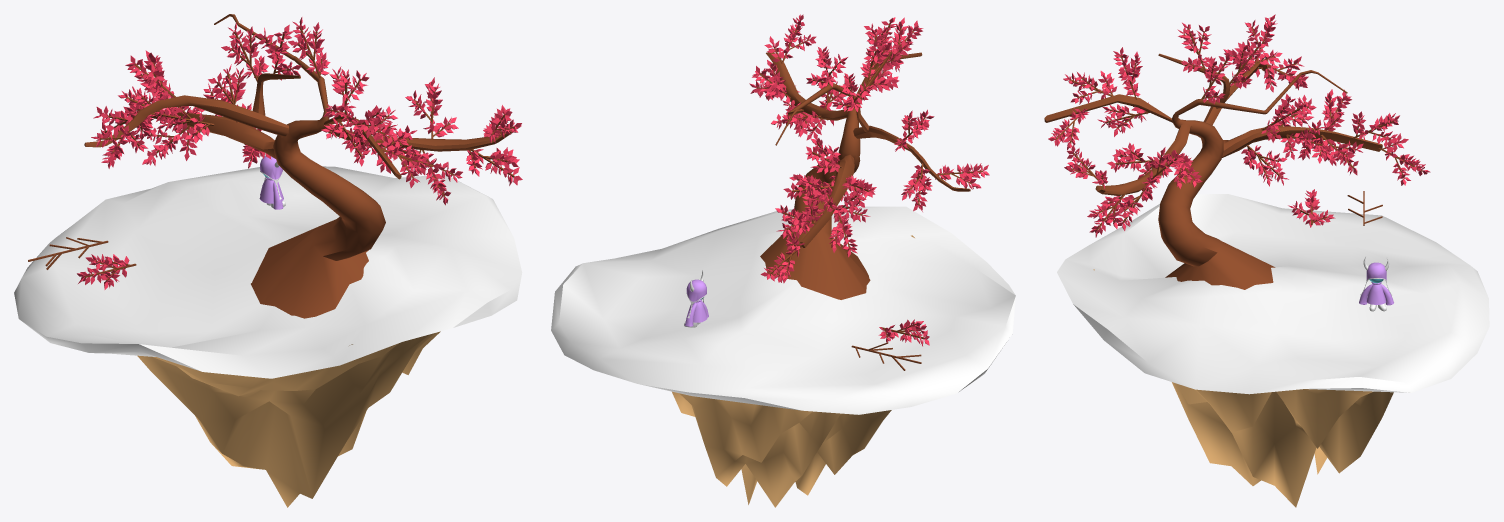
Rendered from boceto_optimizado3.obj.
The picture shows the model from 3 angles, left to right: view 1: azimuth 30°, elevation 25°; view 2: azimuth 150°, elevation 25°; view 3: azimuth 270°, elevation 25°; orthographic projection. The views are drawn at different scales.
Parts seen in each view (by area): view 1: Sphere.1, Landscape, Cylinder, hoja.80, hoja.92, hoja.88, hoja.81, hoja.82, hoja.76, hoja.90, hoja.69, hoja.79 (+9 smaller); view 2: Sphere.1, Landscape, Cylinder, hoja.83, hoja.91, hoja.74, hoja.77, hoja.73, hoja.71, hoja.80, hoja.86, hoja.68 (+8 smaller); view 3: Sphere.1, Landscape, Cylinder, hoja.75, hoja.87, hoja.71, hoja.91, hoja.68, hoja.77, hoja.82, hoja.80, hoja.79 (+13 smaller).
Boxes of the visible parts, box(x1,y1,x2,y2) form: Sphere.1: box(14, 166, 522, 378); Landscape: box(137, 331, 440, 507); Cylinder: box(84, 14, 511, 318); hoja.80: box(288, 17, 330, 77); hoja.92: box(221, 22, 268, 81); hoja.88: box(381, 128, 441, 187); hoja.81: box(405, 77, 458, 138); hoja.82: box(466, 147, 522, 185); hoja.76: box(149, 96, 214, 143); hoja.90: box(323, 66, 369, 117); hoja.69: box(142, 126, 197, 165); hoja.79: box(125, 50, 176, 100); Sphere.1: box(551, 206, 1015, 414); Landscape: box(672, 235, 914, 507); Cylinder: box(760, 51, 970, 299); hoja.83: box(764, 14, 816, 63); hoja.91: box(860, 28, 891, 83); hoja.74: box(783, 174, 833, 201); hoja.77: box(901, 162, 932, 211); hoja.73: box(805, 138, 842, 174); hoja.71: box(760, 238, 804, 283); hoja.80: box(806, 46, 847, 86); hoja.86: box(771, 96, 825, 140); hoja.68: box(775, 198, 820, 238); Sphere.1: box(1057, 194, 1489, 394); Landscape: box(1093, 269, 1393, 507); Cylinder: box(1044, 53, 1382, 289); hoja.75: box(1241, 145, 1288, 186); hoja.87: box(1063, 71, 1117, 104); hoja.71: box(1378, 133, 1430, 185); hoja.91: box(1177, 22, 1211, 72); hoja.68: box(1351, 111, 1399, 144); hoja.77: box(1264, 56, 1308, 92); hoja.82: box(1087, 194, 1125, 237); hoja.80: box(1201, 55, 1234, 104); hoja.79: box(1245, 14, 1282, 64).
Size of the model in its own units: 1766 by 1918 by 1717.
